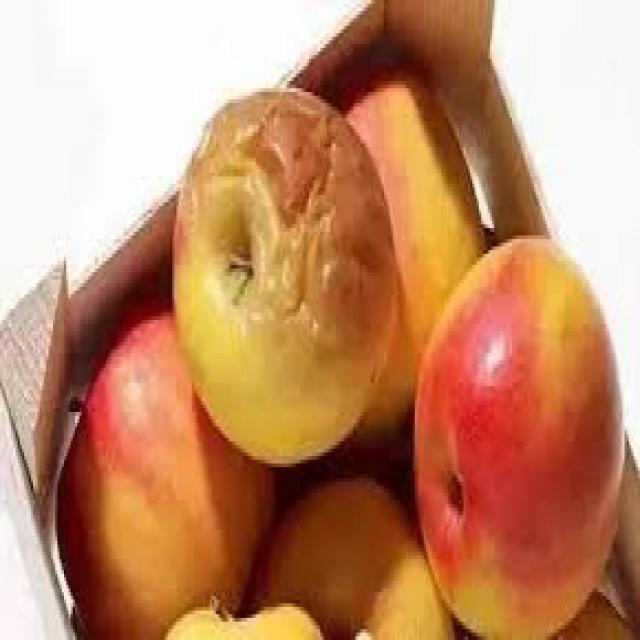organic waste: (408, 232, 622, 636), (172, 88, 397, 460), (55, 287, 263, 614), (326, 62, 486, 338), (240, 471, 454, 636), (164, 600, 322, 636)
